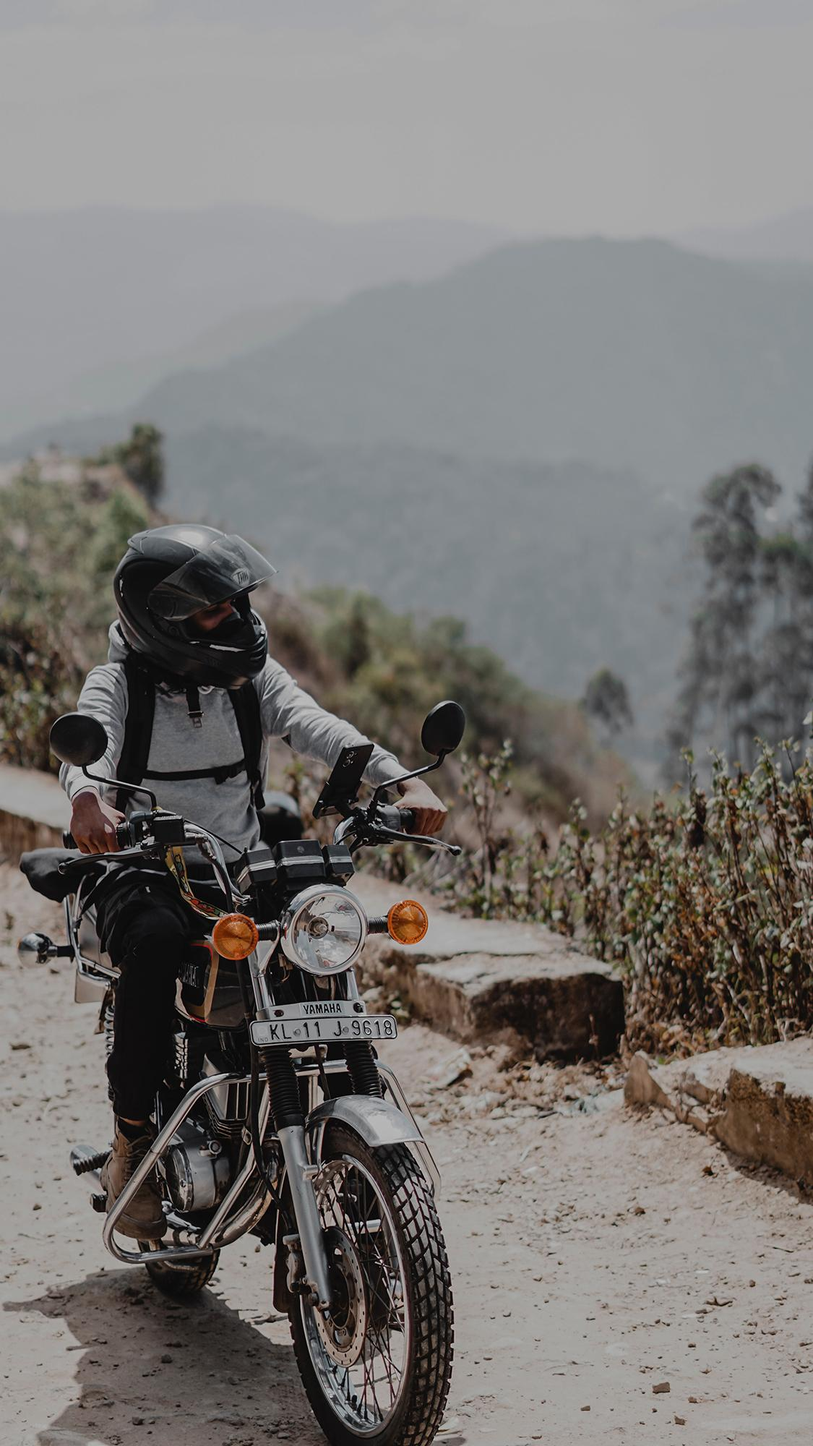helmet: (111, 522, 280, 692)
